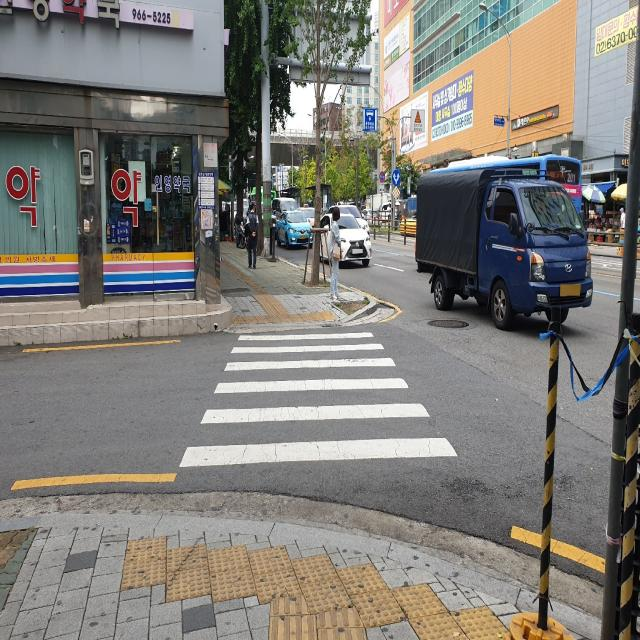횡단보도: (178, 331, 458, 467)
